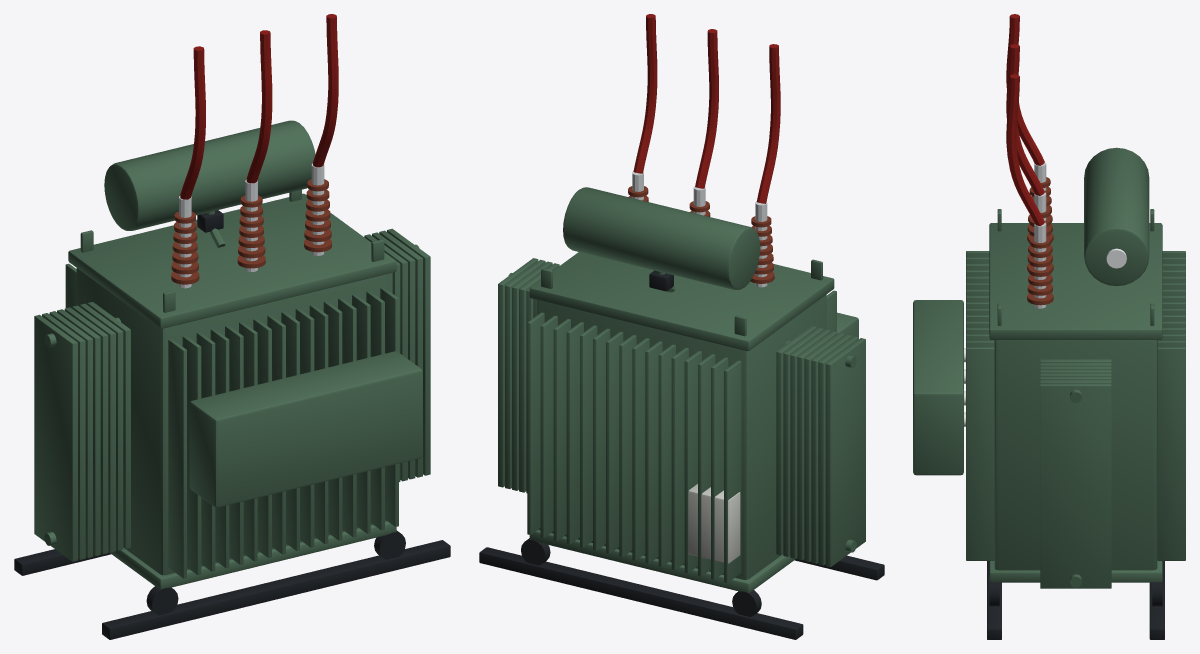
Rendered from transformer.glb.
3 renders of one model, left to right at view 1: azimuth 30°, elevation 25°; view 2: azimuth 150°, elevation 25°; view 3: azimuth 270°, elevation 25°, orthographic. The views are drawn at different scales.
Visible parts, largest first — view 1: tx; view 2: tx; view 3: tx.
Boxes of the visible parts, bbox=[...] form: tx: bbox=[14, 14, 450, 639]; tx: bbox=[479, 14, 884, 639]; tx: bbox=[913, 14, 1185, 639].
Size of the model in its own units: 3.9 by 5.6 by 2.68.
